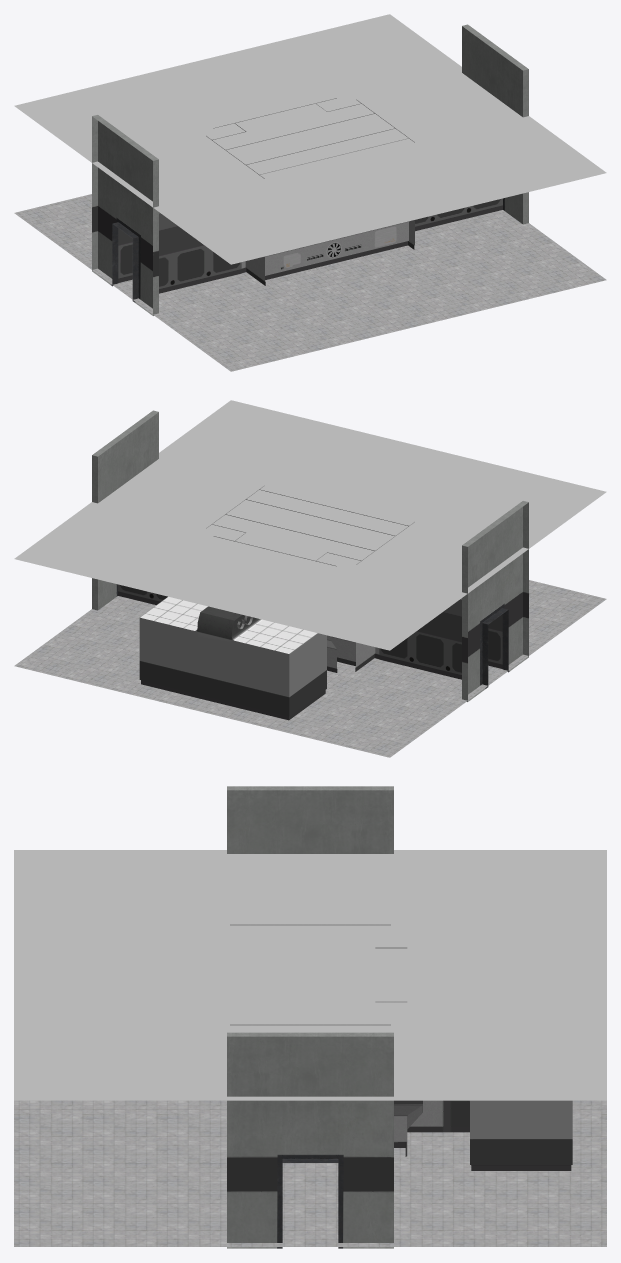
3 renders of one model, top to bottom at view 1: azimuth 30°, elevation 25°; view 2: azimuth 150°, elevation 25°; view 3: azimuth 270°, elevation 25°, orthographic. The views are drawn at different scales.
Visible parts, largest first — view 1: LCZ_AirlockRoom_LOD0; view 2: LCZ_AirlockRoom_LOD0; view 3: LCZ_AirlockRoom_LOD0.
Boxes of the visible parts, <box> form: LCZ_AirlockRoom_LOD0: <box>14,14,606,371</box>; LCZ_AirlockRoom_LOD0: <box>14,400,606,757</box>; LCZ_AirlockRoom_LOD0: <box>14,786,606,1248</box>.
Size of what is drawn, in the model's own units: 20.87 by 8.23 by 20.87.
